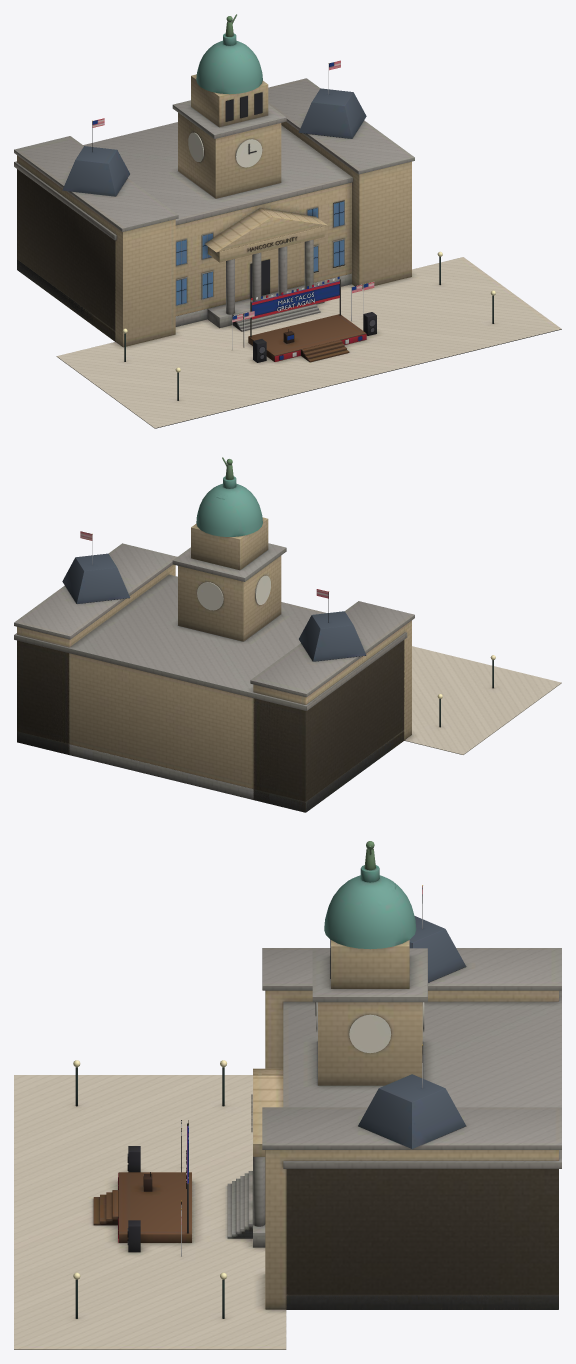
The model's file is juzgado_final.glb.
3 views of the same model, one above another, from view 1: azimuth 30°, elevation 25°; view 2: azimuth 150°, elevation 25°; view 3: azimuth 270°, elevation 25° (orthographic). The views are drawn at different scales.
Parts seen in each view (by area): view 1: juzgado_final; view 2: juzgado_final; view 3: juzgado_final.
Part boxes in pixels (x1=…): juzgado_final: x1=14, y1=14, x2=561, y2=428; juzgado_final: x1=14, y1=457, x2=561, y2=812; juzgado_final: x1=14, y1=841, x2=561, y2=1349.
Size of the model in its own units: 62 by 39.14 by 52.3.
Materials: 1 (1 with a texture image).
